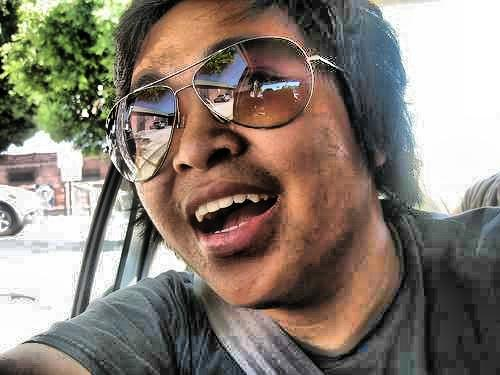seatbelt: (174, 220, 307, 367)
